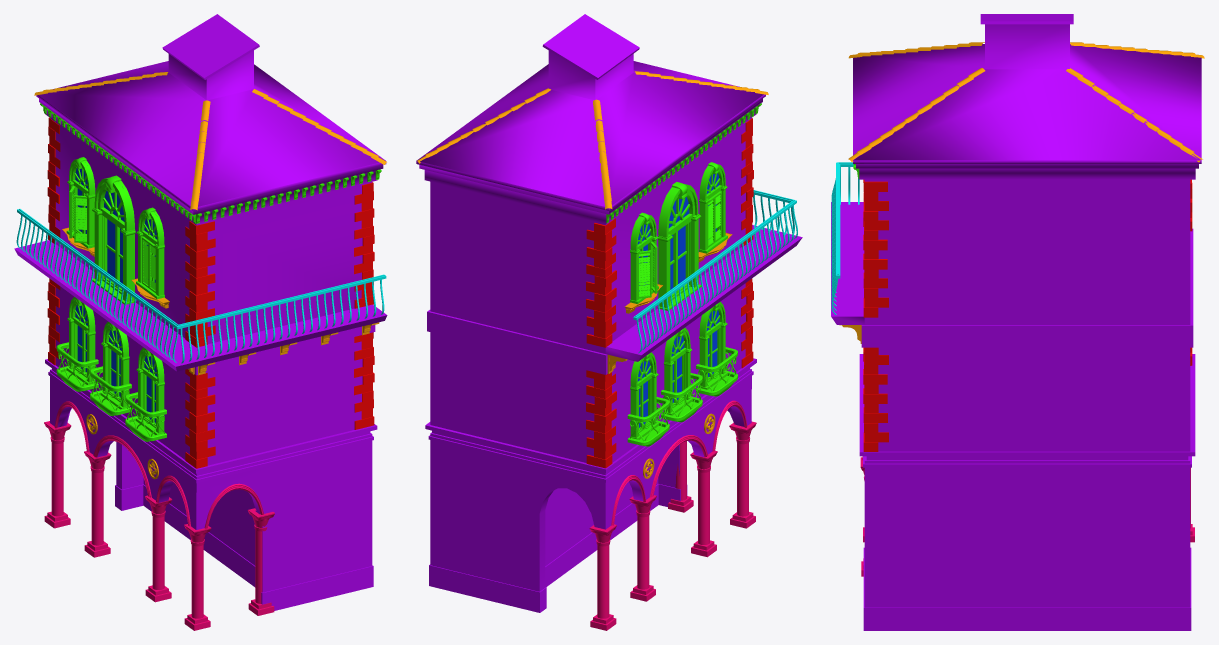
The model's file is blockout texture.fbx.
3 views of the same model, side by side, from view 1: azimuth 30°, elevation 25°; view 2: azimuth 150°, elevation 25°; view 3: azimuth 270°, elevation 25° (orthographic). The views are drawn at different scales.
Parts seen in each view (by area): view 1: Batiment04, Fenêtre_1.011, Box170, Fenêtre_1.008, Fenêtre_1.007, Fenêtre_1.003, Plane054, Plane056, Plane001, Plane055, Fenêtre_1.010, Fenêtre_1.009 (+6 smaller); view 2: Batiment04, Fenêtre_1.011, Fenêtre_1.003, Fenêtre_1.008, Fenêtre_1.007, Plane054, Plane001, Plane056, Fenêtre_1.010, Plane055, Fenêtre_1.009, Box170 (+6 smaller); view 3: Batiment04, Box170.
Part boxes in pixels (x1,y1,x2,y2): Batiment04: (14, 14, 387, 610); Fenêtre_1.011: (92, 175, 135, 304); Box170: (17, 209, 386, 329); Fenêtre_1.008: (136, 347, 164, 434); Fenêtre_1.007: (100, 321, 129, 409); Fenêtre_1.003: (66, 297, 95, 384); Plane054: (44, 421, 71, 528); Plane056: (184, 524, 211, 630); Plane001: (84, 451, 111, 557); Plane055: (145, 495, 172, 602); Fenêtre_1.010: (136, 207, 164, 299); Fenêtre_1.009: (66, 157, 95, 248); Batiment04: (416, 14, 802, 612); Fenêtre_1.011: (657, 182, 701, 310); Fenêtre_1.003: (630, 352, 658, 439); Fenêtre_1.008: (699, 301, 727, 389); Fenêtre_1.007: (663, 327, 692, 415); Plane054: (589, 524, 616, 630); Plane001: (629, 495, 656, 601); Plane056: (729, 421, 756, 528); Fenêtre_1.010: (699, 162, 727, 253); Plane055: (690, 451, 717, 557); Fenêtre_1.009: (630, 212, 658, 304); Box170: (633, 190, 796, 320); Batiment04: (831, 14, 1201, 630); Box170: (836, 162, 853, 278).
Size of the model in its own units: 5.41 by 12.09 by 7.11.
